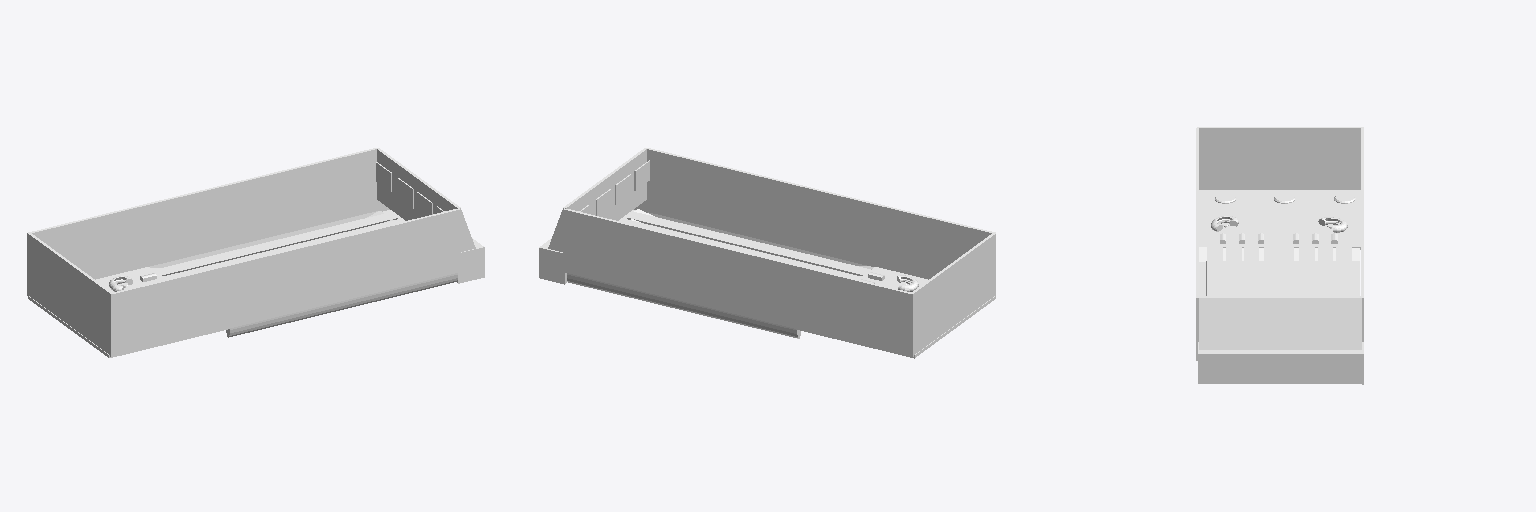
File: AlleyTXT.obj
3 renders of one model, left to right at view 1: azimuth 30°, elevation 25°; view 2: azimuth 150°, elevation 25°; view 3: azimuth 270°, elevation 25°, orthographic.
Parts seen in each view (by area): view 1: polySurface26 polySurface64, polySurface26 polySurface51, polySurface26 polySurface61, polySurface26 polySurface72, polySurface26 polySurface52, polySurface26 polySurface68, polySurface26 polySurface65, polySurface26 polySurface56, polySurface26 polySurface54; view 2: polySurface26 polySurface51, polySurface26 polySurface64, polySurface26 polySurface61, polySurface26 polySurface72, polySurface26 polySurface69, polySurface26 polySurface65, polySurface26 polySurface71, polySurface26 polySurface68, polySurface26 polySurface54; view 3: polySurface26 polySurface72, polySurface26 polySurface61, polySurface26 polySurface54, polySurface26 polySurface62, polySurface26 polySurface70, polySurface26 polySurface71, polySurface26 polySurface69, polySurface26 polySurface53, polySurface26 polySurface52, polySurface26 polySurface56, polySurface26 polySurface55, polySurface26 polySurface64 (+1 smaller).
Part boxes in pixels (left/top/right/bottom): polySurface26 polySurface64: left=112, top=208, right=460, bottom=356; polySurface26 polySurface51: left=28, top=148, right=378, bottom=279; polySurface26 polySurface61: left=27, top=233, right=112, bottom=356; polySurface26 polySurface72: left=376, top=148, right=484, bottom=283; polySurface26 polySurface52: left=153, top=212, right=397, bottom=275; polySurface26 polySurface68: left=226, top=273, right=457, bottom=337; polySurface26 polySurface65: left=150, top=211, right=383, bottom=269; polySurface26 polySurface56: left=163, top=219, right=402, bottom=279; polySurface26 polySurface54: left=96, top=267, right=227, bottom=343; polySurface26 polySurface51: left=563, top=208, right=911, bottom=356; polySurface26 polySurface64: left=645, top=148, right=995, bottom=279; polySurface26 polySurface61: left=910, top=233, right=995, bottom=356; polySurface26 polySurface72: left=539, top=148, right=647, bottom=284; polySurface26 polySurface69: left=627, top=212, right=870, bottom=275; polySurface26 polySurface65: left=567, top=273, right=800, bottom=338; polySurface26 polySurface71: left=622, top=219, right=861, bottom=279; polySurface26 polySurface68: left=634, top=209, right=873, bottom=269; polySurface26 polySurface54: left=796, top=267, right=927, bottom=343; polySurface26 polySurface72: left=1198, top=296, right=1363, bottom=384; polySurface26 polySurface61: left=1197, top=127, right=1363, bottom=189; polySurface26 polySurface54: left=1199, top=217, right=1360, bottom=249; polySurface26 polySurface62: left=1199, top=190, right=1360, bottom=216; polySurface26 polySurface70: left=1264, top=247, right=1293, bottom=295; polySurface26 polySurface71: left=1226, top=247, right=1241, bottom=295; polySurface26 polySurface69: left=1207, top=247, right=1222, bottom=295; polySurface26 polySurface53: left=1299, top=247, right=1314, bottom=295; polySurface26 polySurface52: left=1336, top=247, right=1351, bottom=295; polySurface26 polySurface56: left=1318, top=247, right=1332, bottom=295; polySurface26 polySurface55: left=1244, top=247, right=1258, bottom=295; polySurface26 polySurface64: left=1196, top=128, right=1198, bottom=360.
Size of the model in its own units: 129 by 25.3 by 50.5.